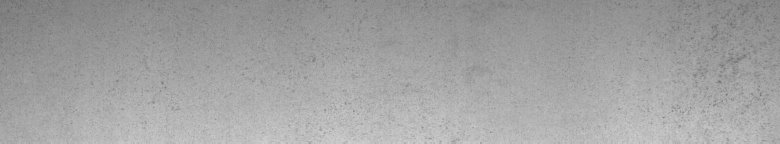ib: (672, 20, 765, 116)
